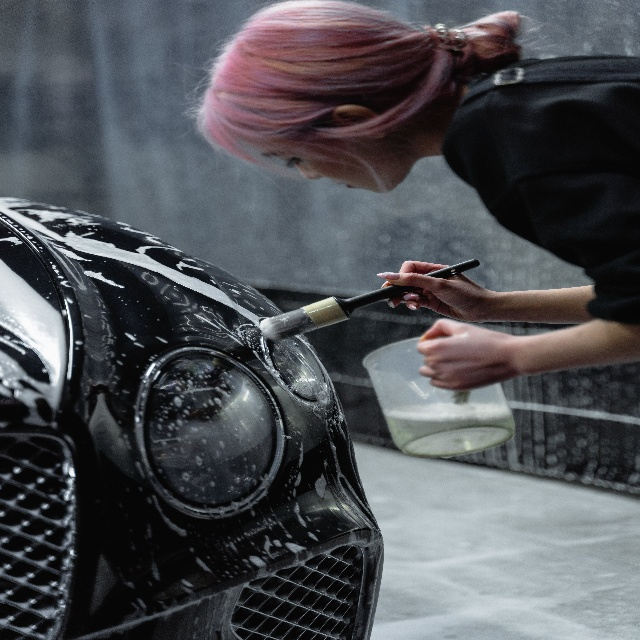Sin_guantes: (378, 258, 486, 324), (417, 317, 510, 391)
